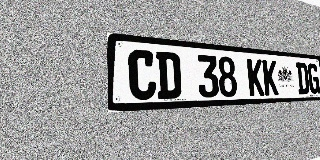3: (197, 54, 219, 98)
8: (217, 56, 237, 97)
C: (128, 49, 156, 100)
D: (156, 51, 182, 99), (296, 62, 310, 94)
G: (307, 63, 320, 94)
K: (247, 58, 264, 96), (262, 60, 279, 95)
